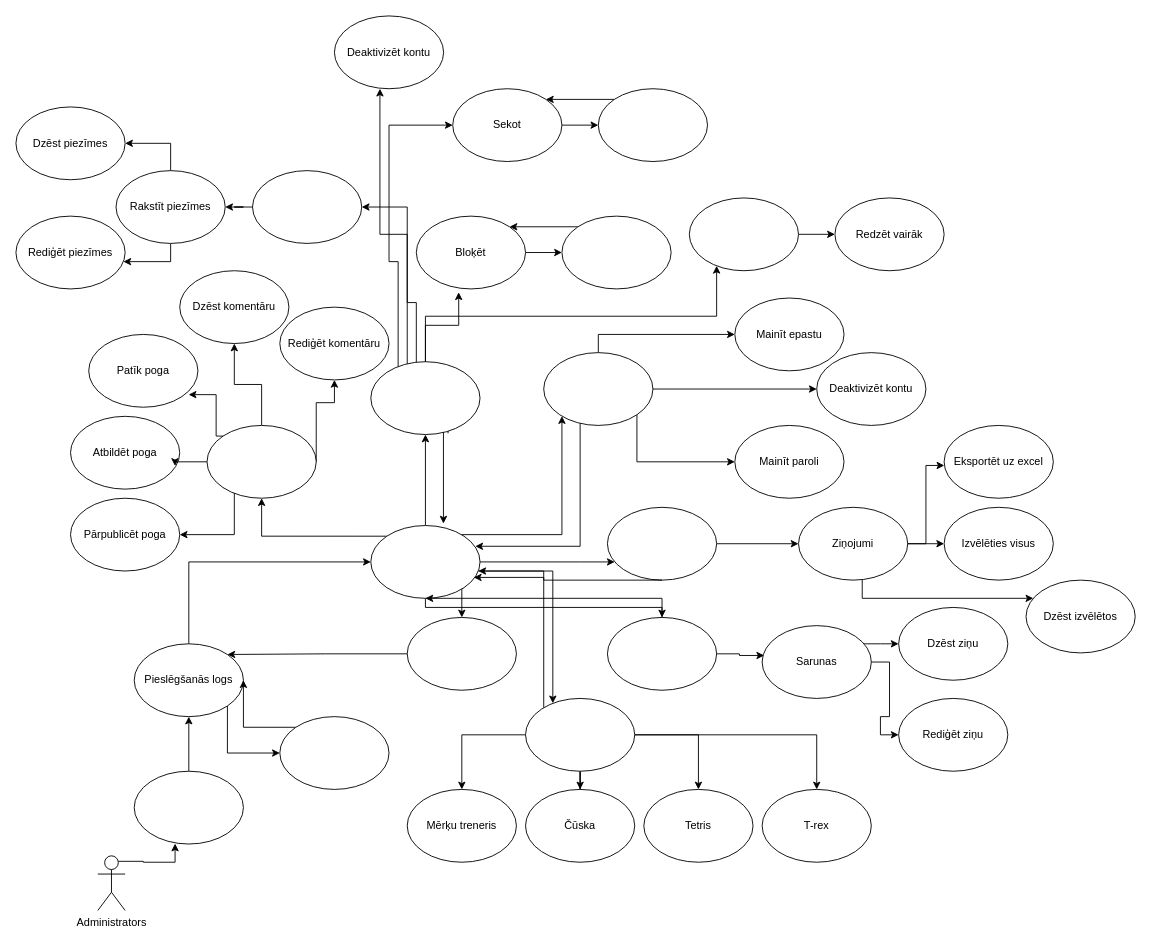
This 1151x945 diagram has some shape labels left out. The shapes that lost their labels are listed below. From the top down, each one's centre as x and y in pixels, then its label:
At (652,125): "Atsekot".
At (307,206): "Piezīmju bloks".
At (616,252): "Atbloķēt".
At (743,234): "Komentāri".
At (425,398): "Profils".
At (598,388): "Iestatījumi".
At (261,461): "Komentēt".
At (425,561): "Sākumlapa".
At (662,543): "Paziņojumi".
At (461,653): "Atslēgties".
At (662,653): "Čats".
At (334,752): "Reģistrācijas logs".
At (580,734): "Spēles".
At (188,807): "Aiziet uz mājaslapu".
